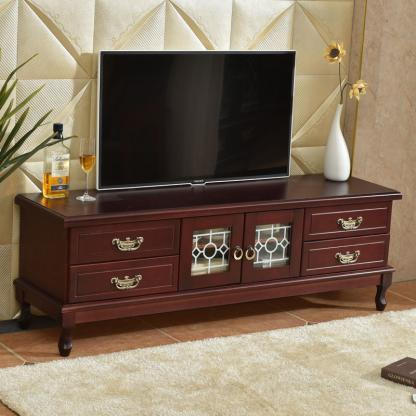TV stand: (14, 162, 410, 358)
